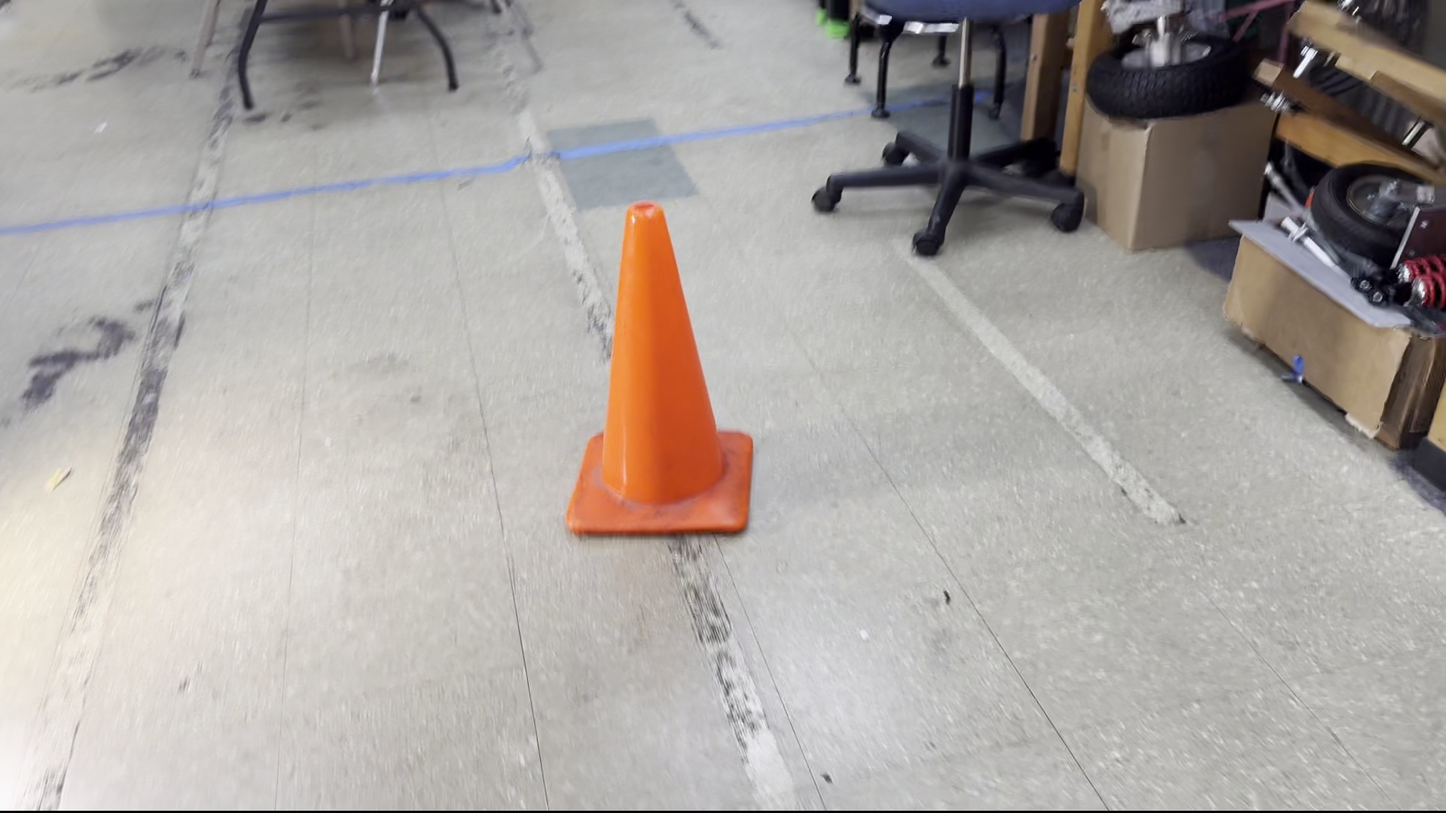traffic_cone: (564, 200, 754, 537)
